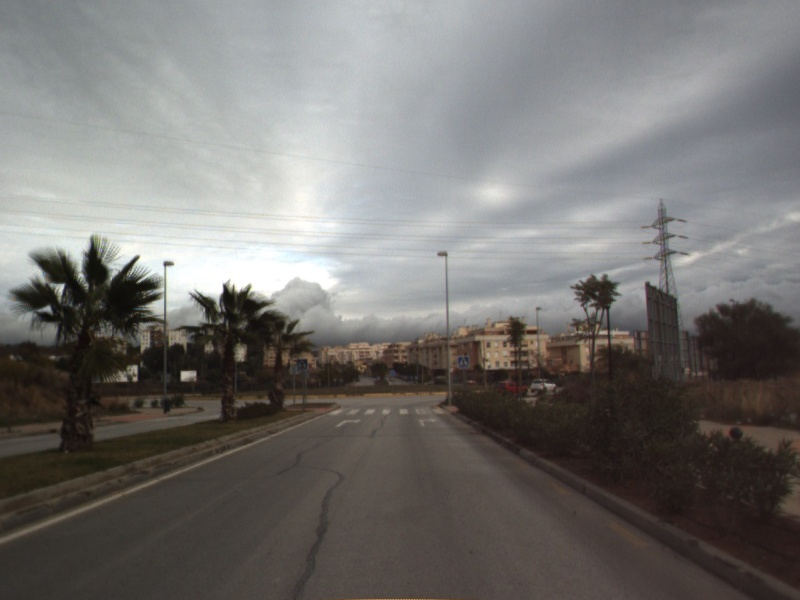RIGHT: (333, 416, 364, 429), (417, 415, 440, 428)
